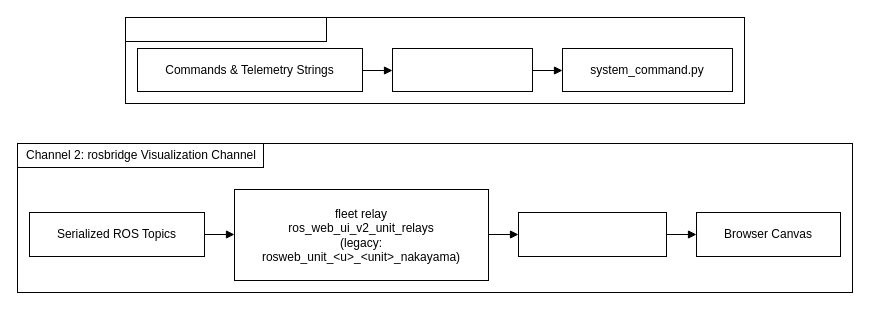
This 870x310 diagram has some shape labels left out. Each missing label, with the centre of its shape:
"Channel 1: MQTT Control Channel" belongs at point 225,29.
"HiveMQ (:8883)" belongs at point 462,70.
"rosbridge (:9090)" belongs at point 592,234.
